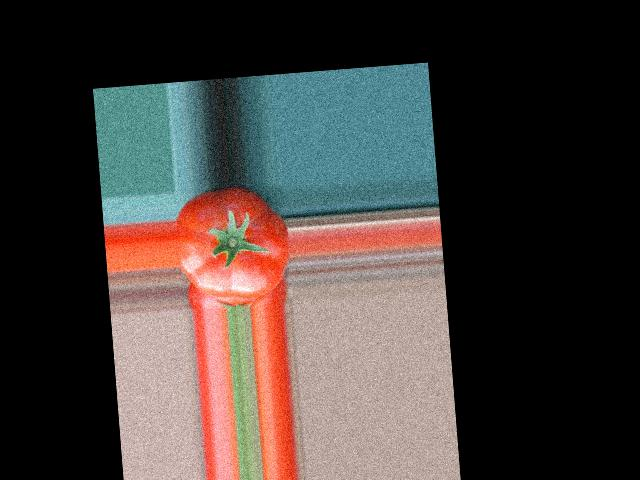tomato: (174, 184, 294, 303)
